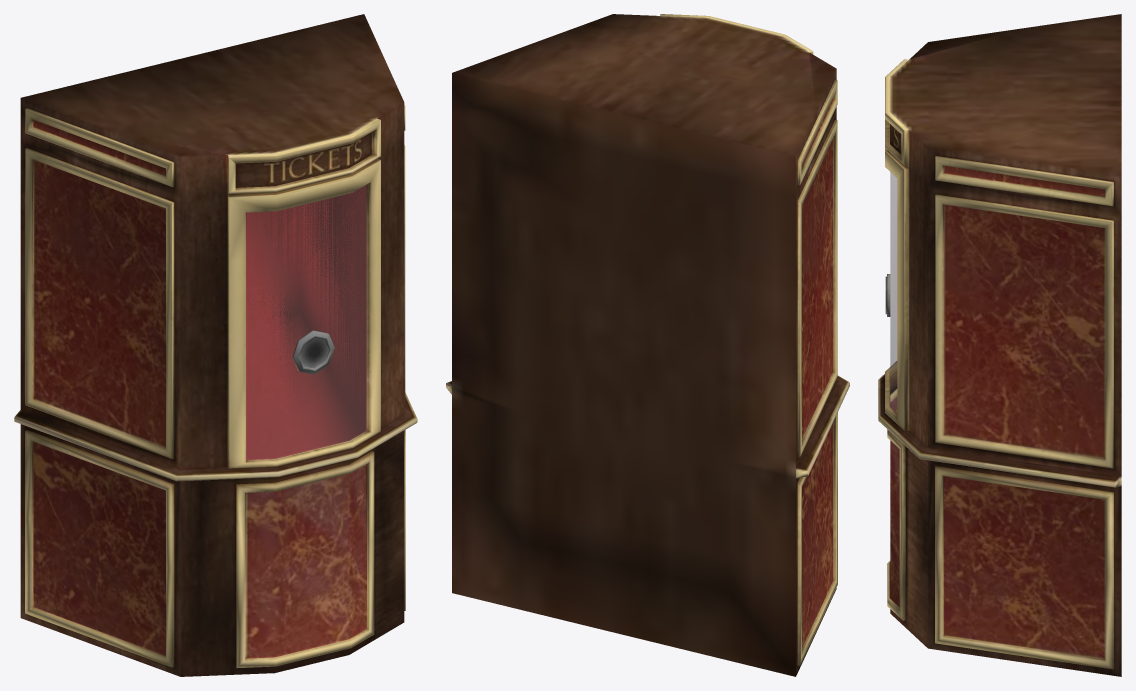
The model's file is ticket-office.lod0.glb.
The picture shows the model from 3 angles, left to right: view 1: azimuth 30°, elevation 25°; view 2: azimuth 150°, elevation 25°; view 3: azimuth 270°, elevation 25°; orthographic projection. The views are drawn at different scales.
Visible parts, largest first — view 1: defaultMaterial; view 2: defaultMaterial; view 3: defaultMaterial.
Part boxes in pixels (x1,y1,x2,y2): defaultMaterial: [14, 14, 417, 676]; defaultMaterial: [446, 14, 849, 676]; defaultMaterial: [878, 14, 1121, 676].
Size of the model in its own units: 2.19 by 3 by 1.32.
1 material, 1 textured.
